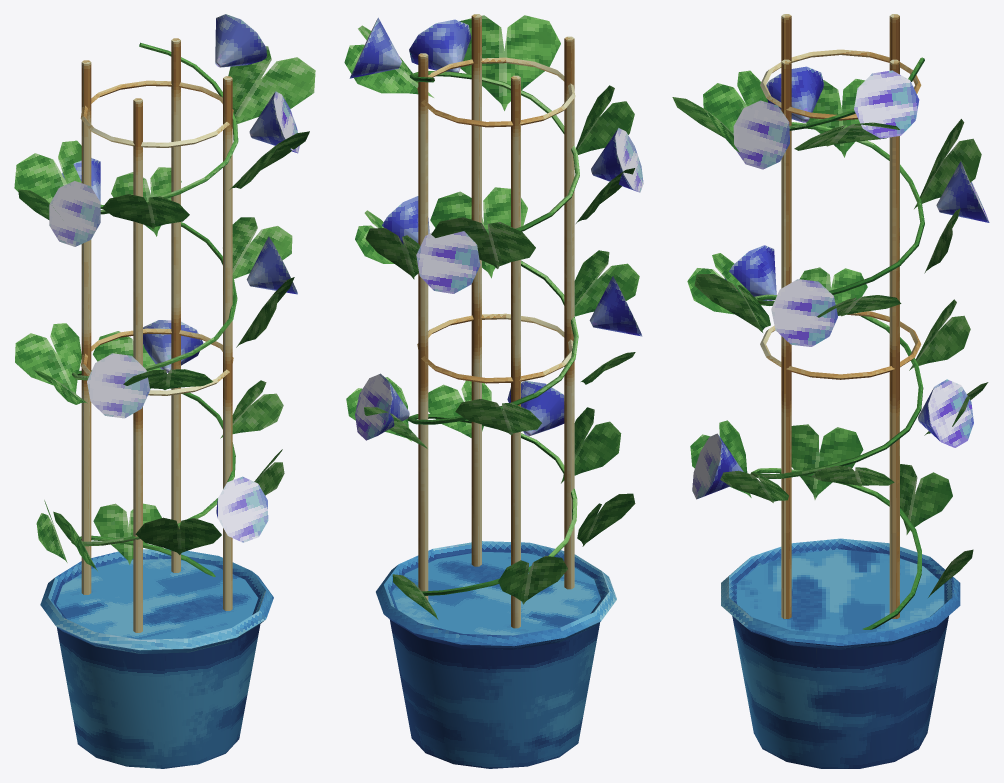
File: asagao_bloom.glb
The picture shows the model from 3 angles, left to right: view 1: azimuth 30°, elevation 25°; view 2: azimuth 150°, elevation 25°; view 3: azimuth 270°, elevation 25°; orthographic projection. The views are drawn at different scales.
Visible parts, largest first — view 1: mesh; view 2: mesh; view 3: mesh.
Part boxes in pixels (x1,y1,x2,y2): mesh: [14, 14, 315, 768]; mesh: [344, 14, 643, 768]; mesh: [672, 14, 989, 768].
Bounding box in the file's own units: 0.3123 × 0.76 × 0.3077.
Materials: 1 (1 with a texture image).
